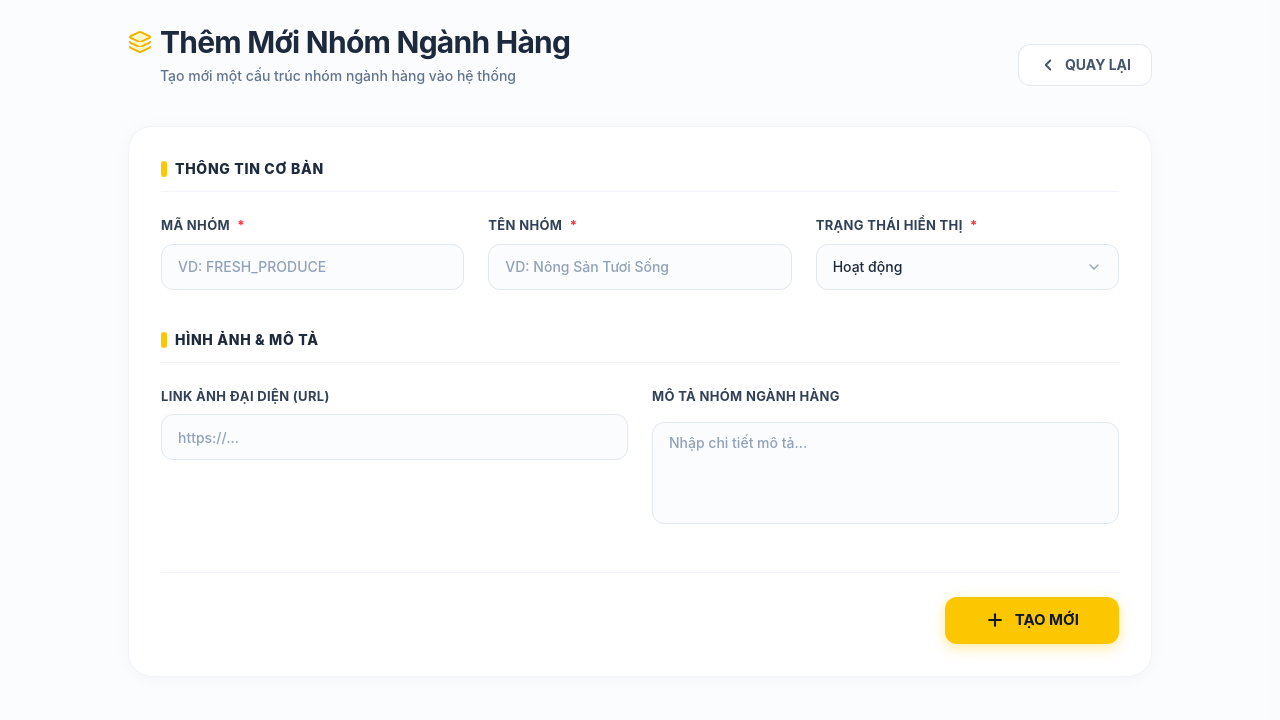
Test case: Module 04 - ProductCategoryGroupForm Component › TC02 - Hiển thị lỗi validation khi submit dữ liệu trống
expect the heading "Thêm Mới Nhóm Ngành Hàng" is shown: met, box [160, 24, 570, 60]
Click the button "TẠO MỚI": click(1032, 620) [945, 597, 1119, 644]
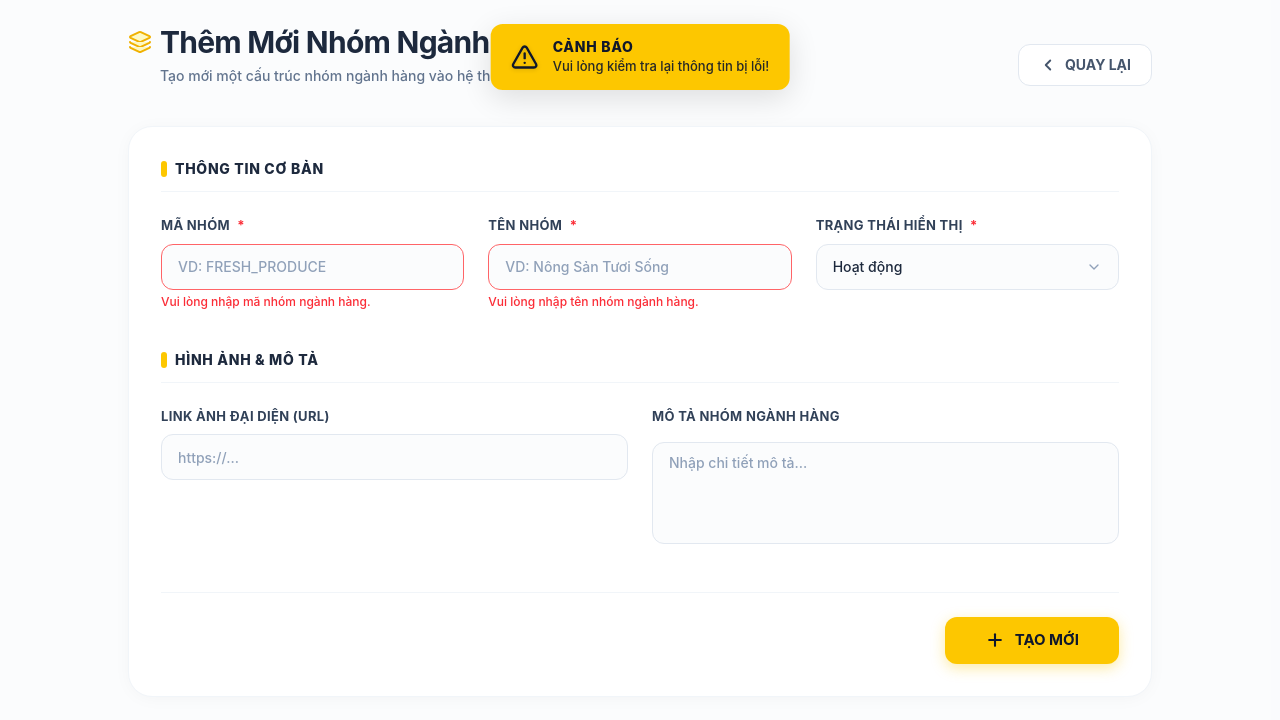
expect the text "Vui lòng nhập mã nhóm ngành hàng." is shown: met, box [161, 294, 371, 308]
expect the text "Vui lòng nhập tên nhóm ngành hàng." is shown: met, box [488, 294, 699, 308]
